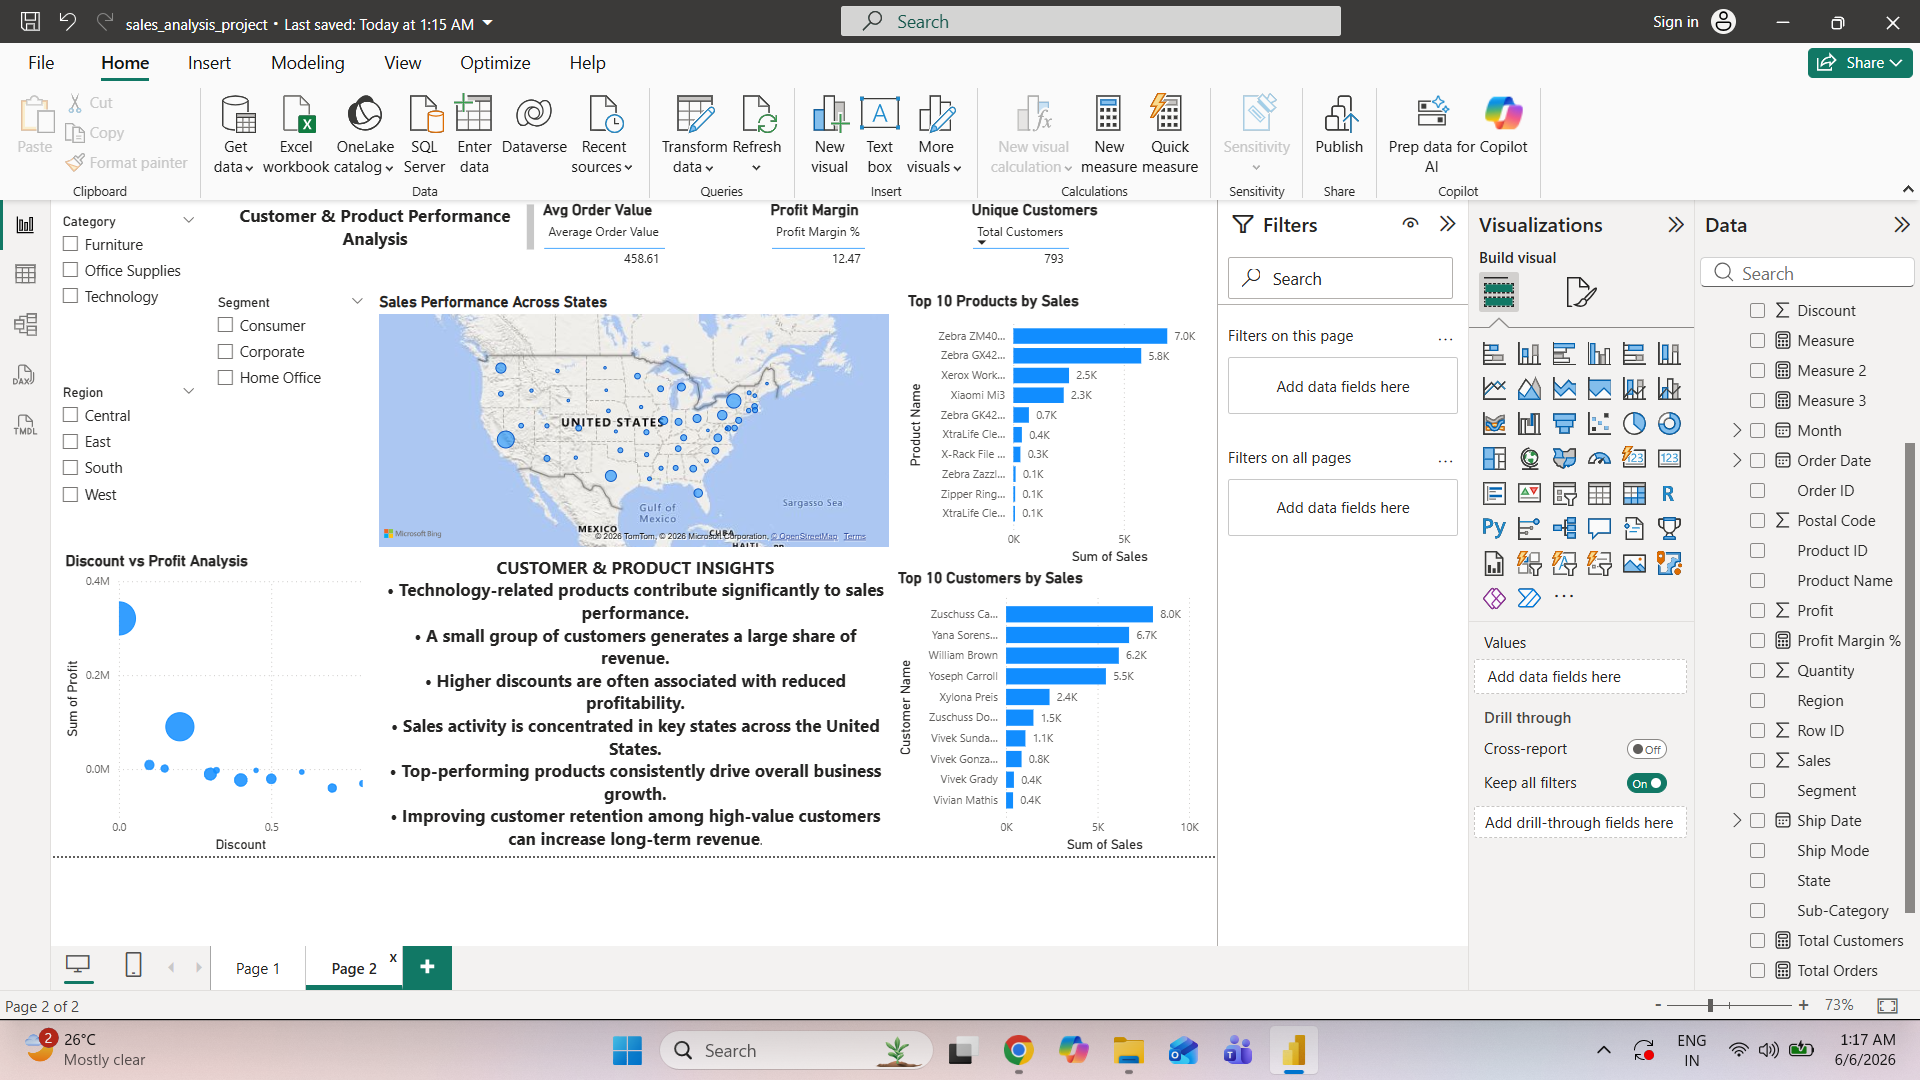

Layout of this report page (visuals, bound fields, positions):
{"tool":"powerbi","page":{"name":"Page 2","canvas":[1280,720],"ordinal":1},"visuals":[{"type":"clusteredBarChart","title":"Top 10 Customers by Sales","fields":{"Y":["Sum(cleaned_sales_data.Sales)"],"Category":["cleaned_sales_data.Customer Name"]},"box":[924.9,404.8,355.4,315.6],"z":0},{"type":"clusteredBarChart","title":"Top 10 Products by Sales","fields":{"Category":["cleaned_sales_data.Product Name"],"Y":["Sum(cleaned_sales_data.Sales)"]},"box":[935.9,100.2,344.4,304.6],"z":1000},{"type":"scatterChart","title":"Discount vs Profit Analysis","fields":{"Size":["Sum(cleaned_sales_data.Sales)"],"X":["cleaned_sales_data.Discount"],"Y":["Sum(cleaned_sales_data.Profit)"]},"box":[11,385.6,344.4,334.8],"z":2000},{"type":"tableEx","title":"Avg Order Value","fields":{"Values":["cleaned_sales_data.Average Order Value"]},"box":[535.2,0,249.7,100.2],"z":2003},{"type":"tableEx","title":"Profit Margin","fields":{"Values":["cleaned_sales_data.Profit Margin %"]},"box":[784.9,0,220.9,100.2],"z":2004},{"type":"tableEx","title":"Unique Customers","fields":{"Values":["cleaned_sales_data.Total Customers"]},"box":[1005.8,0,231.9,90.6],"z":2005},{"type":"map","title":"Sales Performance Across States","fields":{"Category":["cleaned_sales_data.State"],"Size":["Sum(cleaned_sales_data.Sales)"]},"box":[355.4,101.5,569.5,284],"z":2006},{"type":"slicer","fields":{"Values":["cleaned_sales_data.Region"]},"box":[0,197.6,170.2,161.9],"z":2007},{"type":"slicer","fields":{"Values":["cleaned_sales_data.Category"]},"box":[0,9.6,170.2,161.9],"z":2008},{"type":"slicer","fields":{"Values":["cleaned_sales_data.Segment"]},"box":[170.2,98.8,185.2,196.2],"z":2009},{"type":"textbox","box":[359.5,385.6,564,334.8],"z":2010},{"type":"textbox","box":[183.9,0,351.3,67.2],"z":2011}]}

Visuals, with their boxes on the page's 1280x720 design canvas (x1, y1, x2, y2). These are canvas units, not pixel positions in the 1920x1080 screenshot, which may show the page scaled, cropped or inside an application window:
"Top 10 Customers by Sales" clusteredBarChart: BBox(925, 405, 1280, 720)
"Top 10 Products by Sales" clusteredBarChart: BBox(936, 100, 1280, 405)
"Discount vs Profit Analysis" scatterChart: BBox(11, 386, 355, 720)
"Avg Order Value" tableEx: BBox(535, 0, 785, 100)
"Profit Margin" tableEx: BBox(785, 0, 1006, 100)
"Unique Customers" tableEx: BBox(1006, 0, 1238, 91)
"Sales Performance Across States" map: BBox(355, 102, 925, 386)
slicer - cleaned_sales_data.Region: BBox(0, 198, 170, 360)
slicer - cleaned_sales_data.Category: BBox(0, 10, 170, 172)
slicer - cleaned_sales_data.Segment: BBox(170, 99, 355, 295)
textbox: BBox(360, 386, 924, 720)
textbox: BBox(184, 0, 535, 67)
